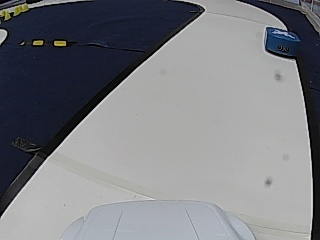prop: (266, 27, 300, 57)
